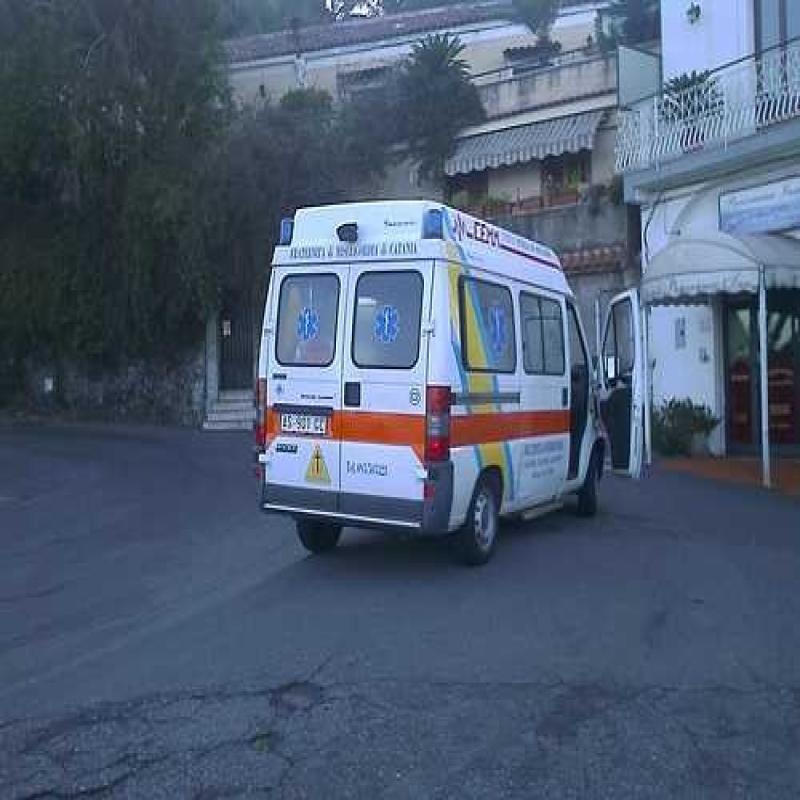ambulance: (251, 176, 651, 572)
